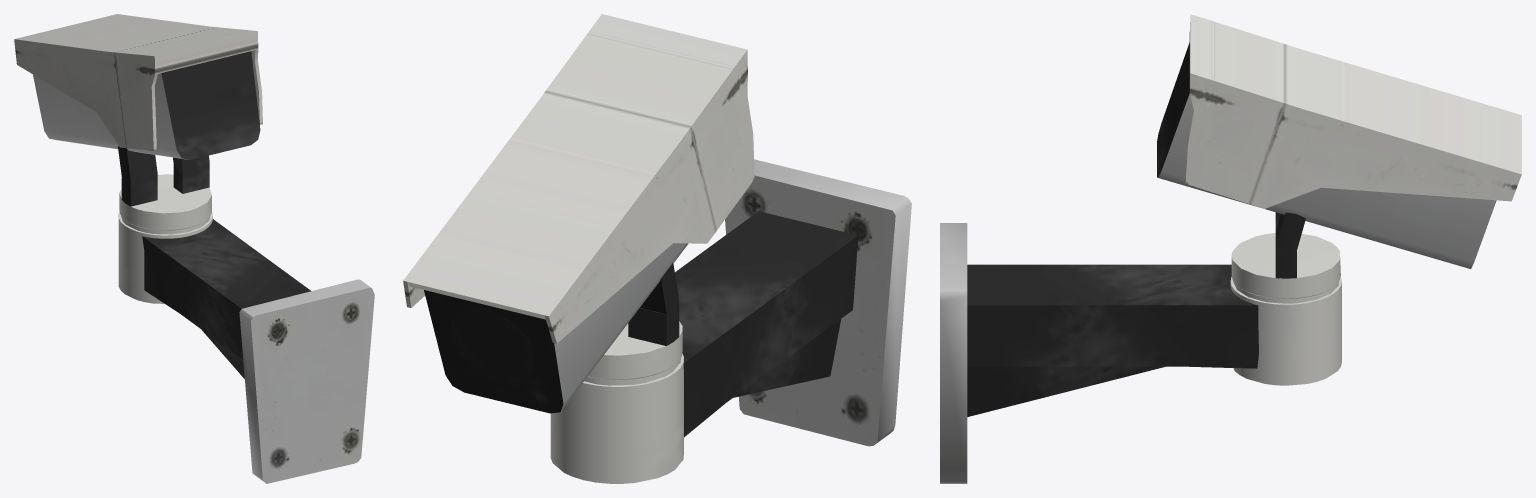
Rendered from bw-cam-b.lod0.glb.
The picture shows the model from 3 angles, left to right: view 1: azimuth 30°, elevation 25°; view 2: azimuth 150°, elevation 25°; view 3: azimuth 270°, elevation 25°; orthographic projection. The views are drawn at different scales.
Parts seen in each view (by area): view 1: Object_4; view 2: Object_4; view 3: Object_4.
Part boxes in pixels (x1,y1,x2,y2): Object_4: (14, 14, 374, 483); Object_4: (403, 14, 911, 483); Object_4: (940, 14, 1521, 483).
Bounding box in the file's own units: 0.1739 × 0.4726 × 0.6.
Materials: 1 (1 with a texture image).
